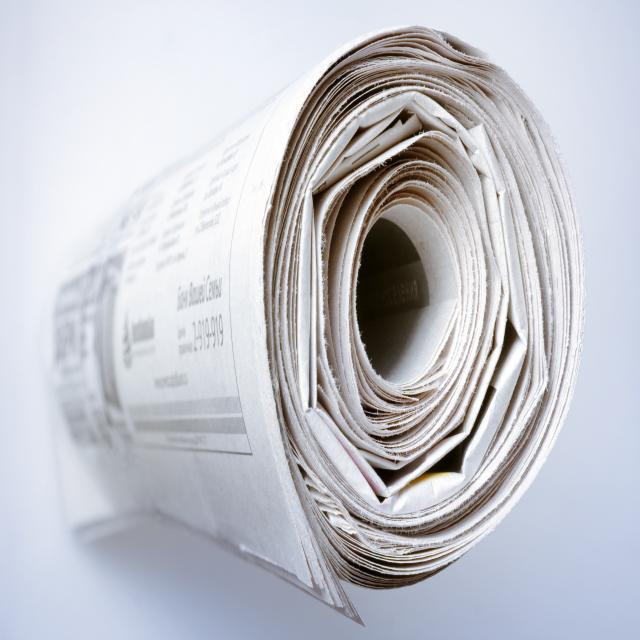paper: (254, 80, 550, 537)
